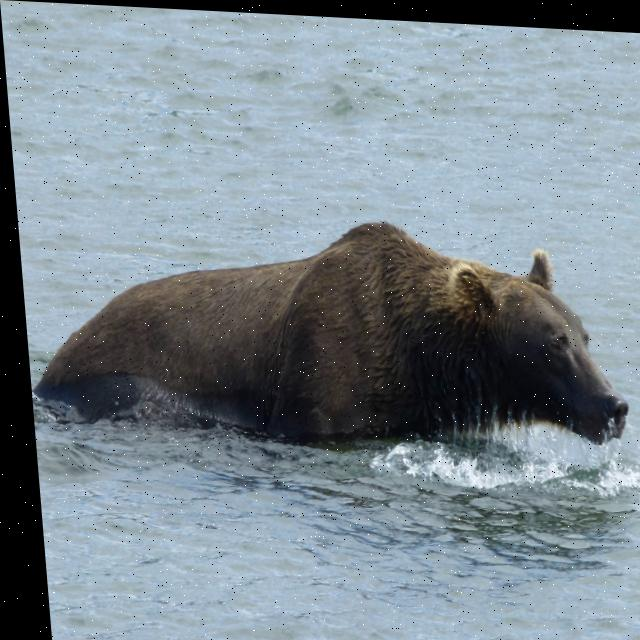bear face: (18, 202, 626, 440)
